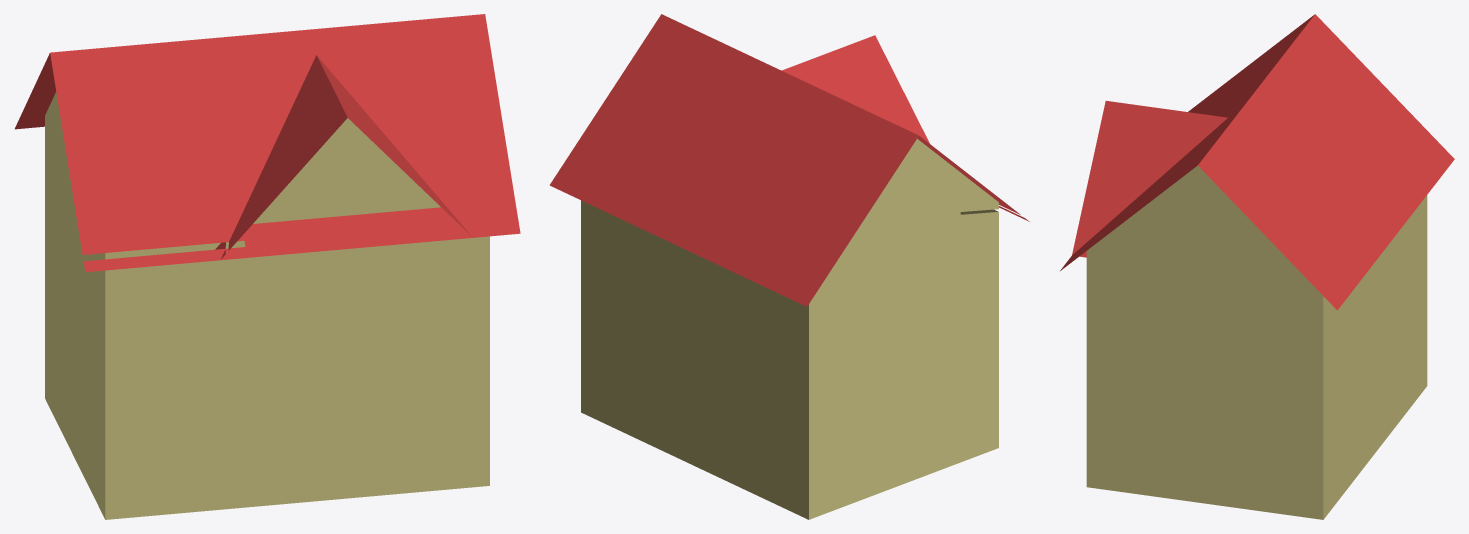
The picture shows the model from 3 angles, left to right: view 1: azimuth 30°, elevation 25°; view 2: azimuth 150°, elevation 25°; view 3: azimuth 270°, elevation 25°; orthographic projection. The views are drawn at different scales.
Size of the model in its own units: 15.39 by 13.55 by 13.11.
